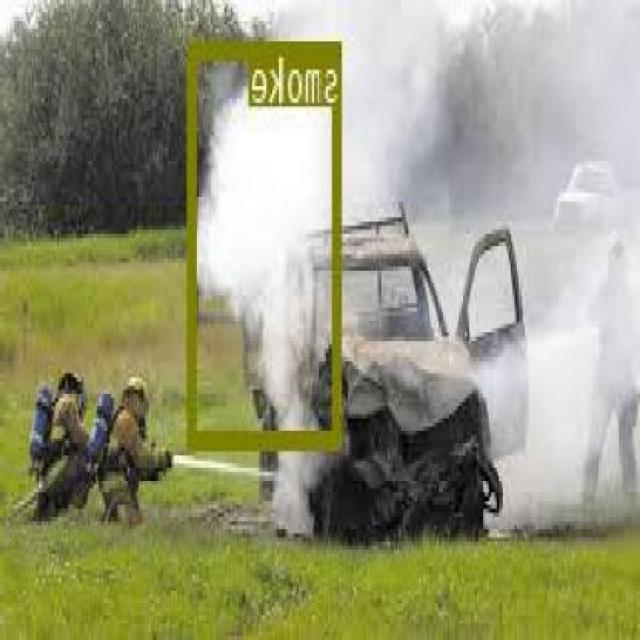Smoke: (190, 40, 344, 445)
